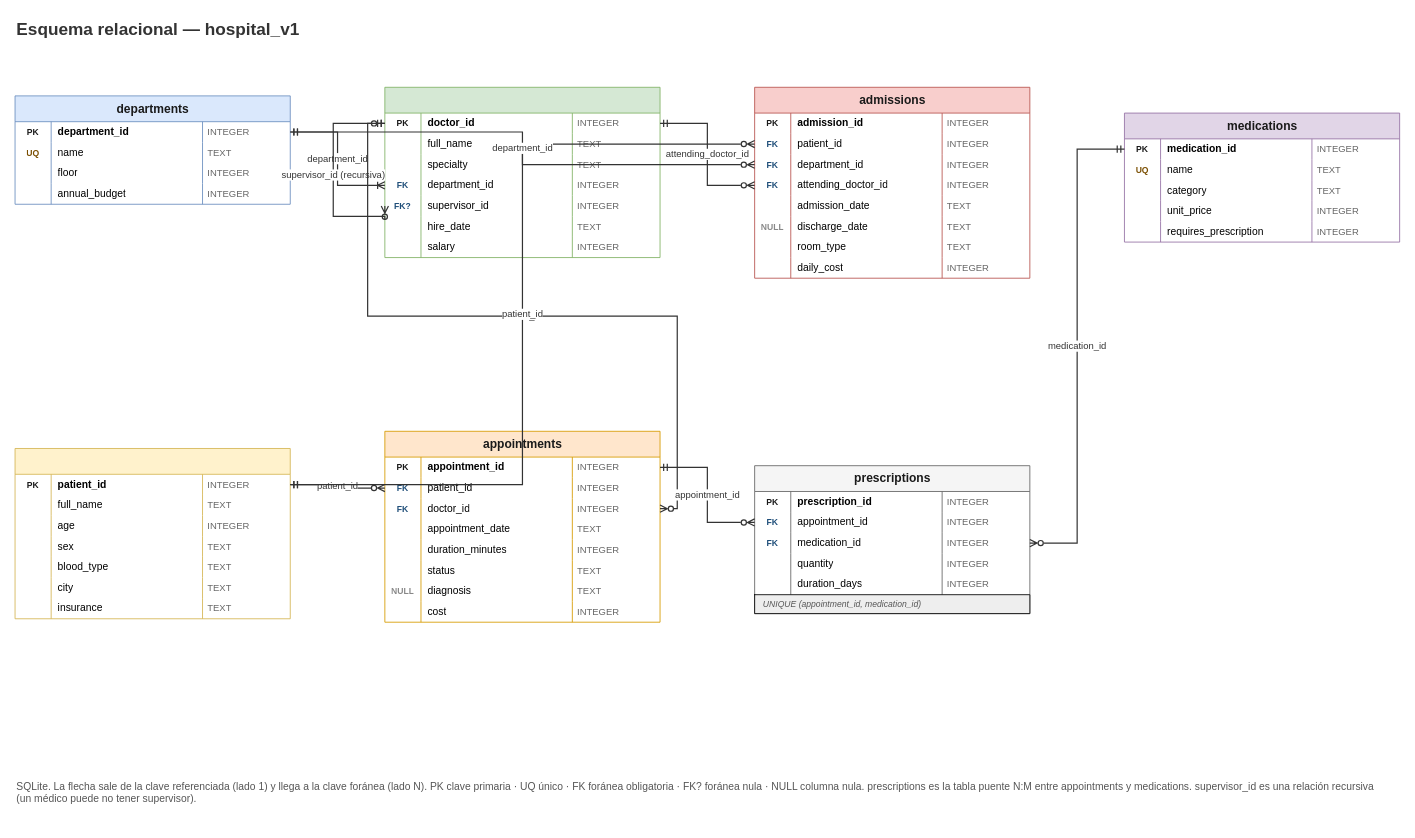
The diagram is 1415 pixels wide and 838 high, and some of its shapes have lost their labels. The shapes that lost their labels are listed below. From the top down, each one's box as (x1, y1, x2, y2) in pixels, then its label:
(384, 86, 660, 258): doctors
(14, 448, 290, 619): patients
